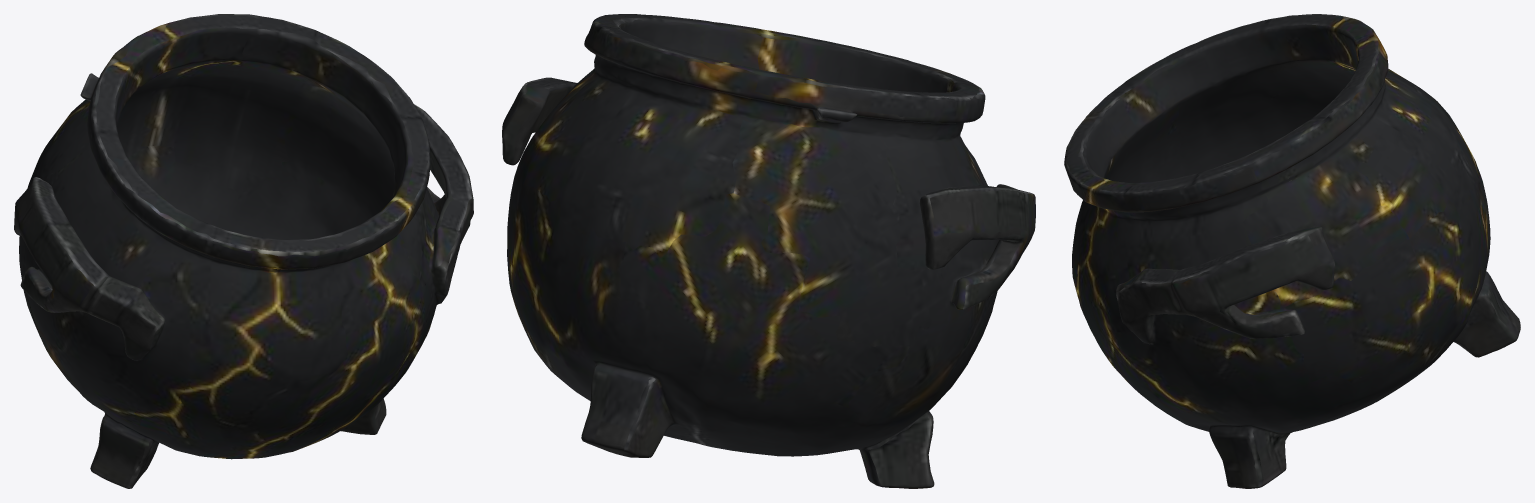
File: agatha_doom.glb
3 views of the same model, side by side, from view 1: azimuth 30°, elevation 25°; view 2: azimuth 150°, elevation 25°; view 3: azimuth 270°, elevation 25° (orthographic). The views are drawn at different scales.
Size of the model in its own units: 0.8506 by 0.7655 by 0.8275.
1 material, 1 textured.
